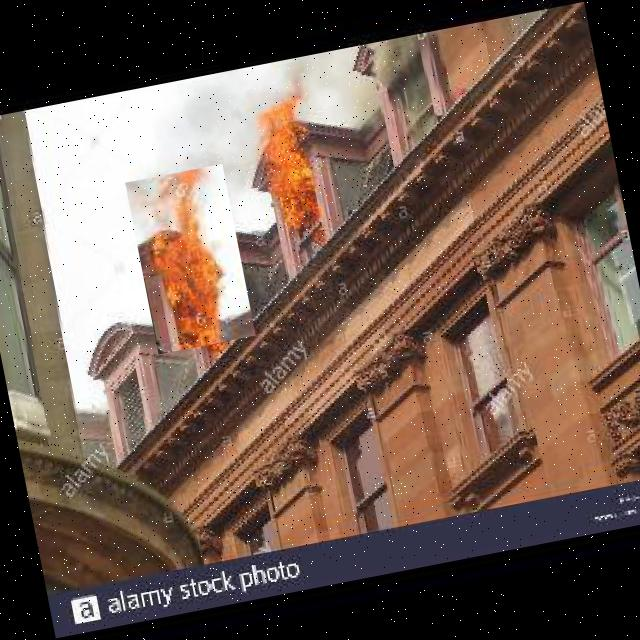fire: (125, 163, 256, 354)
